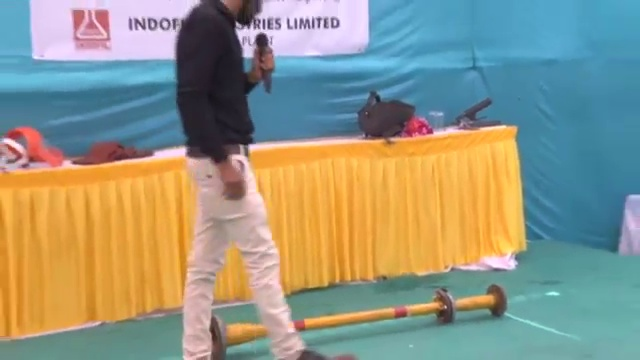person: (172, 2, 332, 360)
